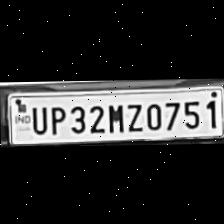0: (143, 99, 163, 130)
1: (201, 96, 219, 128)
2: (86, 100, 104, 132)
3: (66, 100, 86, 132)
5: (178, 96, 202, 128)
7: (161, 97, 179, 128)
M: (104, 100, 124, 132)
P: (46, 102, 66, 134)
U: (28, 102, 46, 132)
Z: (123, 99, 143, 130)
